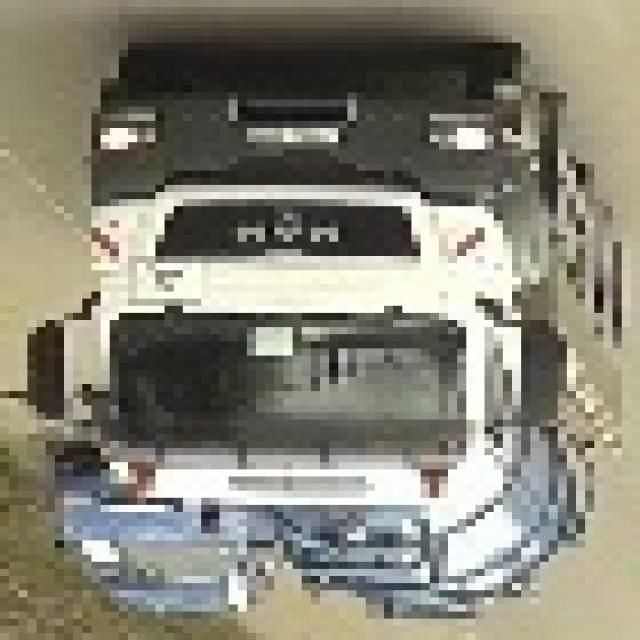Truck: (37, 50, 640, 633)
